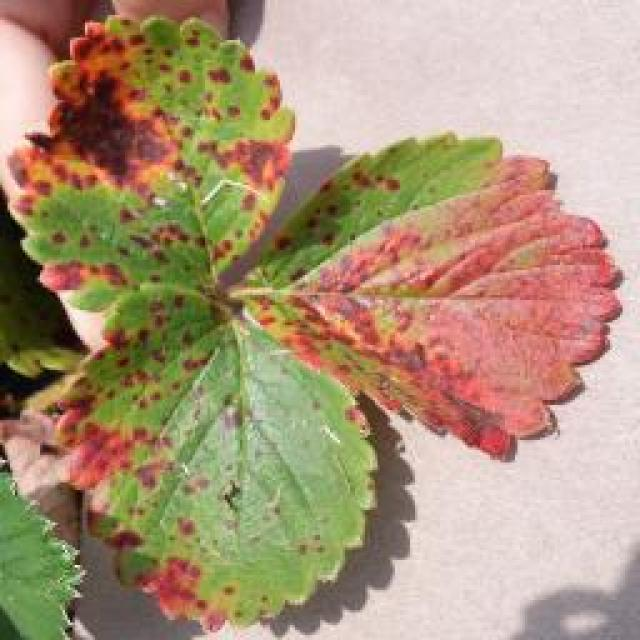Strawberry leaf scorch: (43, 66, 540, 472)
